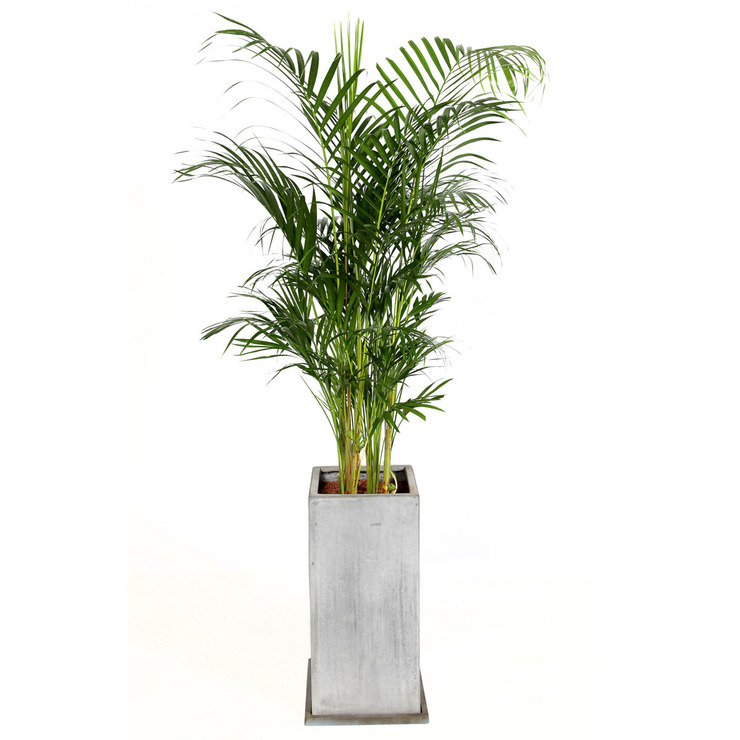palmae: (156, 4, 556, 492)
